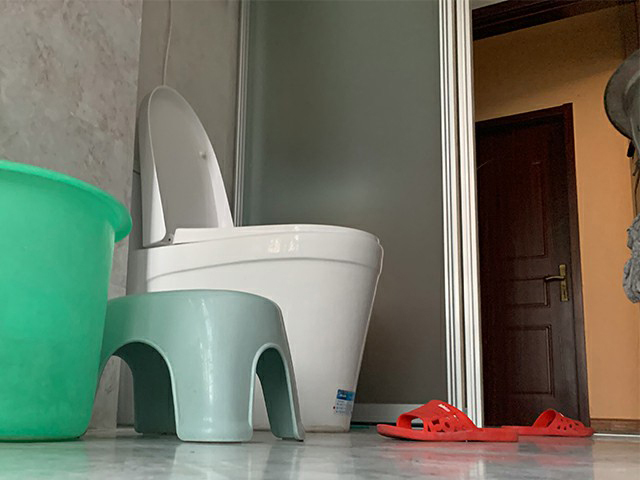closestool: (117, 84, 386, 434)
slippers: (375, 398, 515, 442), (499, 409, 595, 443)
stool: (98, 288, 306, 444)
